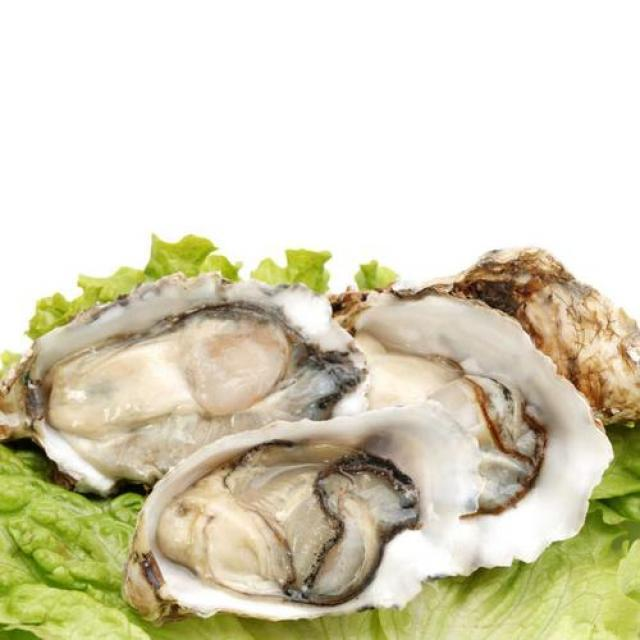Oyster- Indeterminate: (419, 242, 640, 437)
Oyster-Open: (0, 264, 375, 501), (325, 283, 616, 581), (120, 396, 487, 628)
